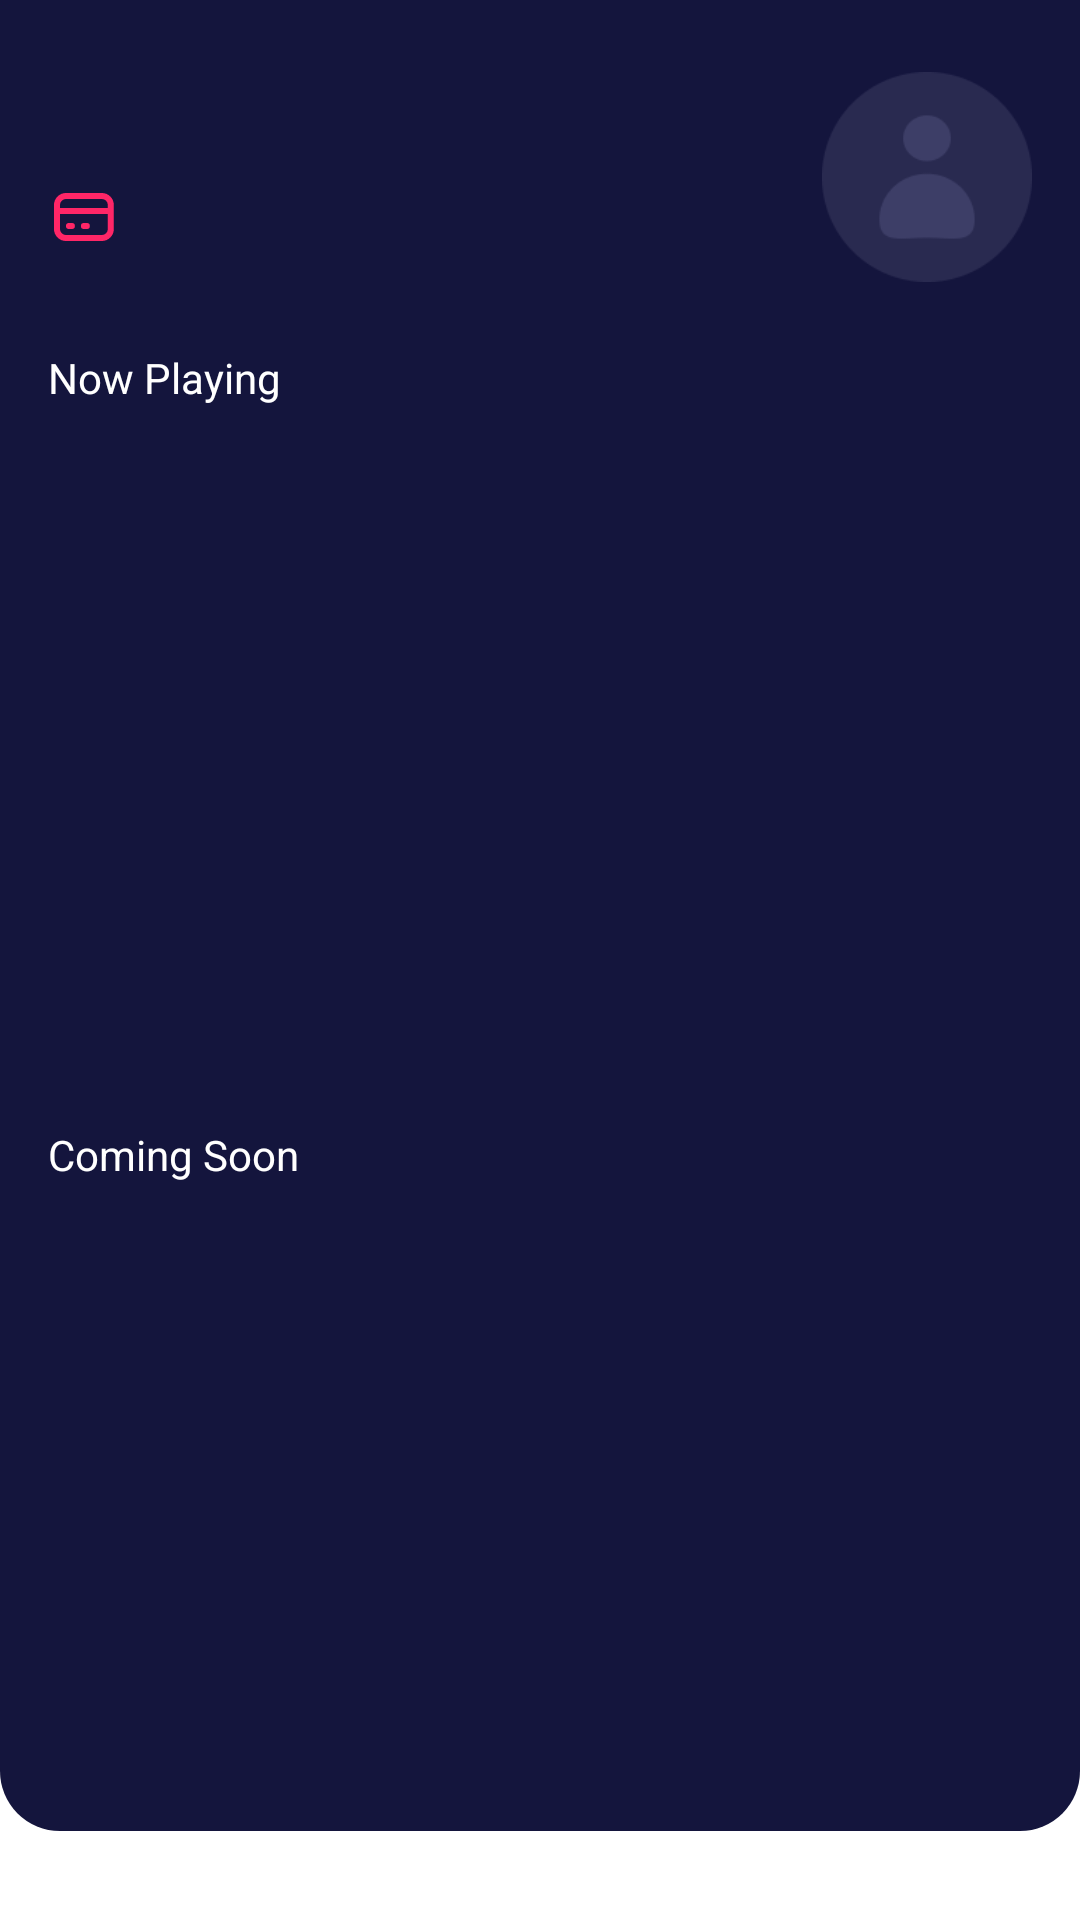

Screen size 1080w x 1920h. Icon name, then its center in pixels as point (x, y):
user pic: point (927, 177)
